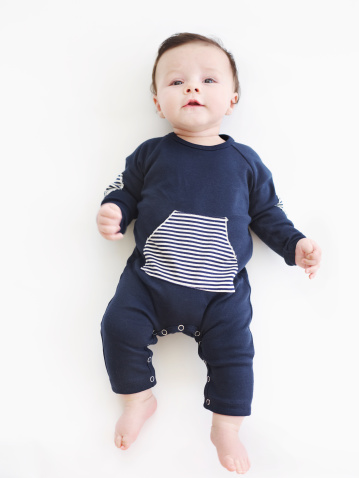deitado: (69, 35, 303, 477)
